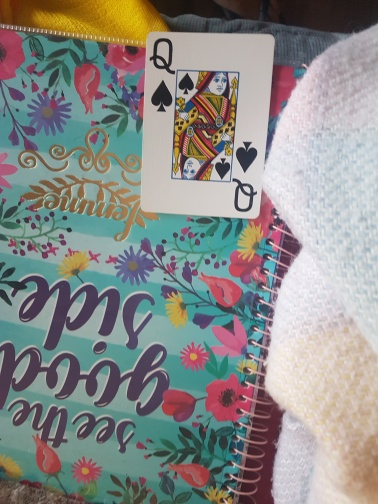queen: (142, 30, 275, 221)
